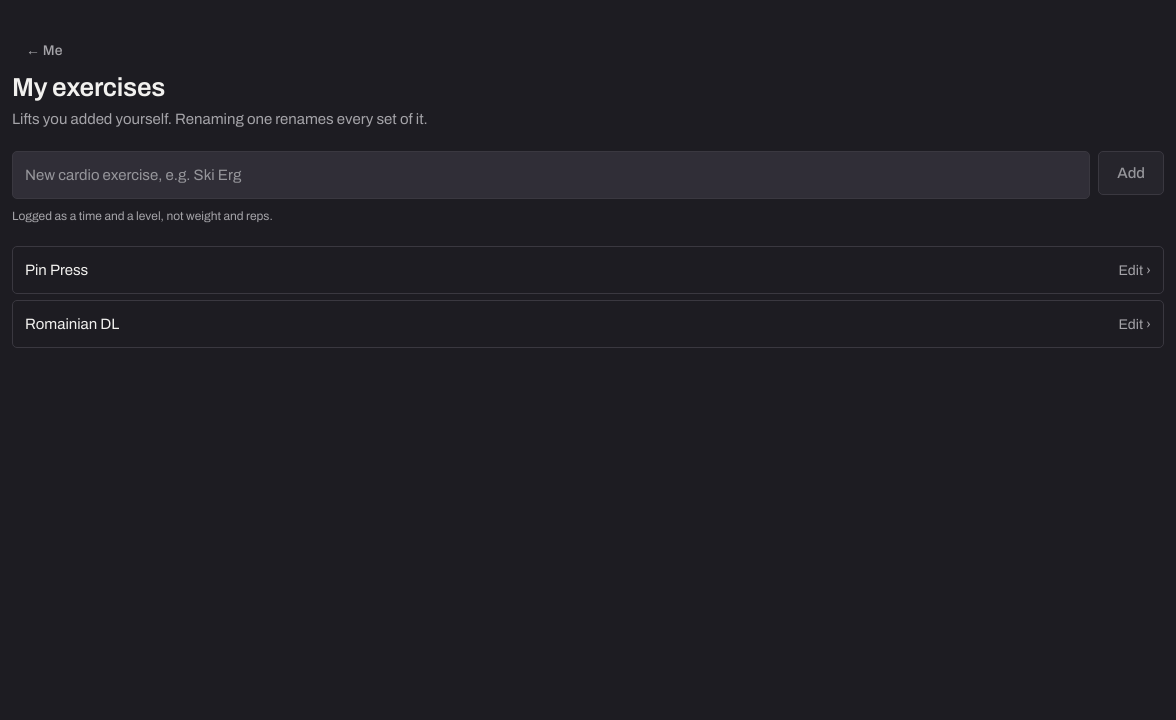
Test case: My exercises › the bodyweight flag (F20) › puts the flag back and says so when the phone cannot store it
What coordinates should you click on to do the following:
click the button with aria-label "Edit Pin Press"
I would click on:
 (57, 270)
Its box is top-left (12, 246), bottom-right (1164, 294).
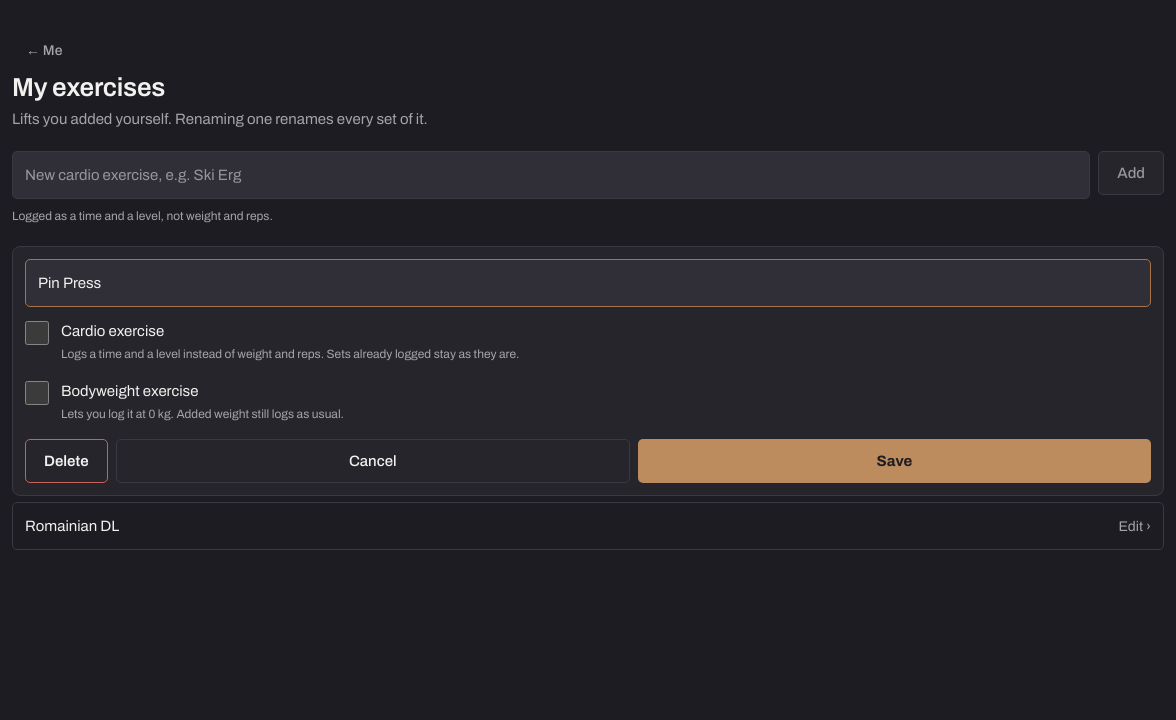
What coordinates should you click on to do the following:
click the checkbox labelled "Bodyweight exercise"
I would click on:
 (37, 393)
Its box is top-left (25, 381), bottom-right (49, 405).
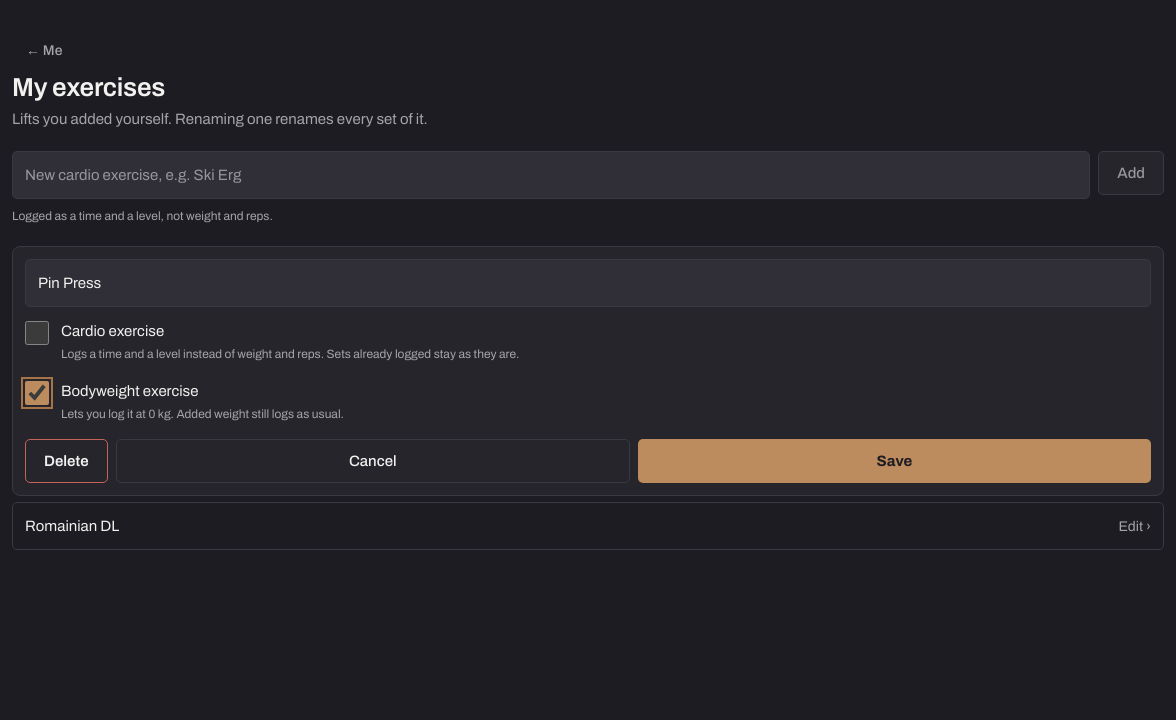
What coordinates should you click on to do the following:
click the button "Save"
I would click on:
 (894, 461)
Its box is top-left (638, 439), bottom-right (1151, 483).
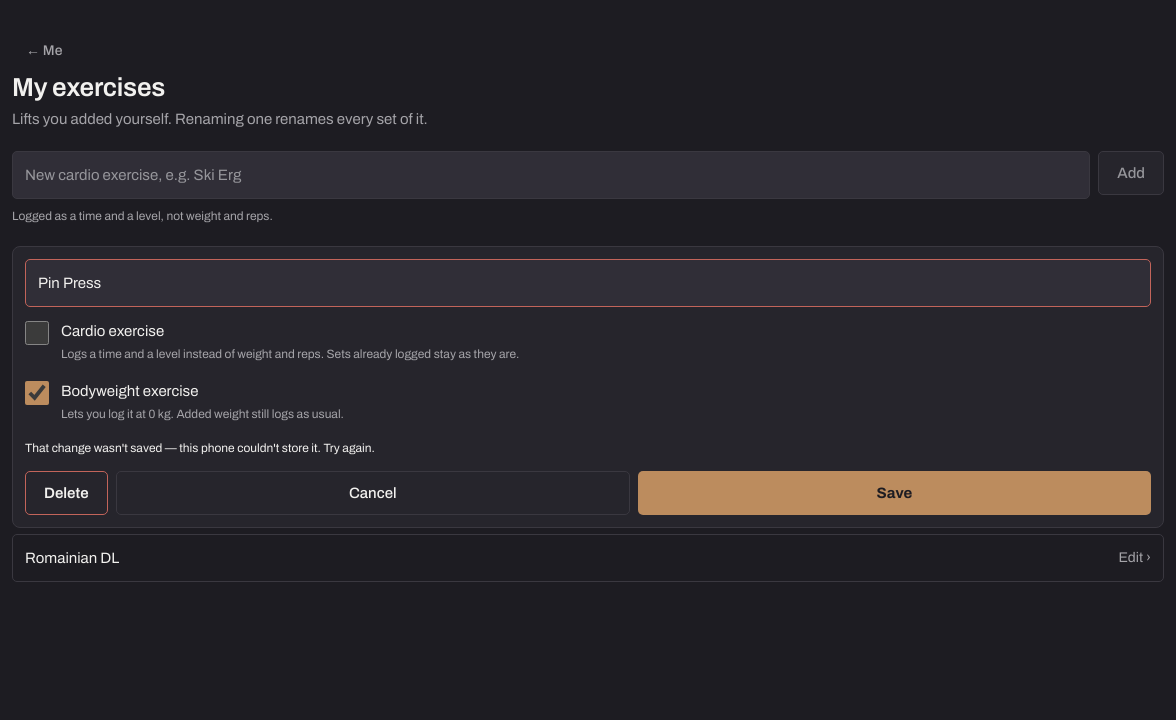
expect the checkbox labelled "Bodyweight exercise" is checked: met, box top-left (25, 381), bottom-right (49, 405)
expect the message shows "That change wasn't saved": met, box top-left (25, 441), bottom-right (375, 455)
